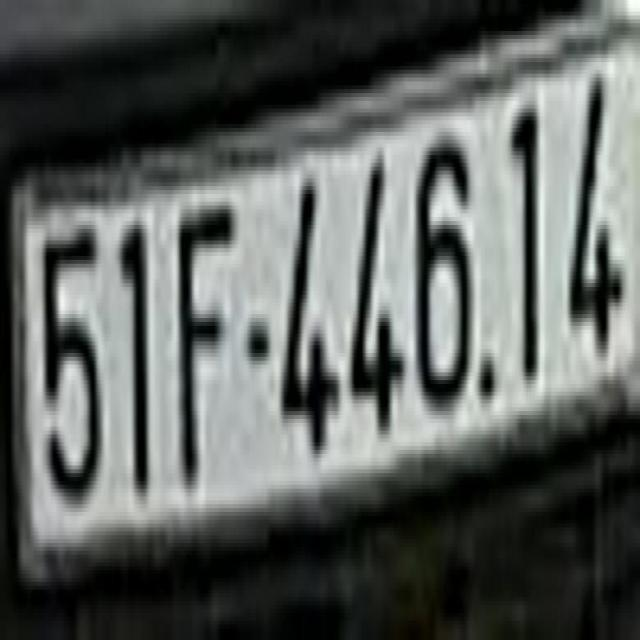1: (508, 89, 546, 392), (115, 209, 152, 489)
4: (564, 62, 626, 357), (278, 159, 340, 454), (350, 128, 404, 419)
5: (41, 225, 101, 489)
6: (414, 128, 474, 408)
F: (176, 194, 233, 493)
